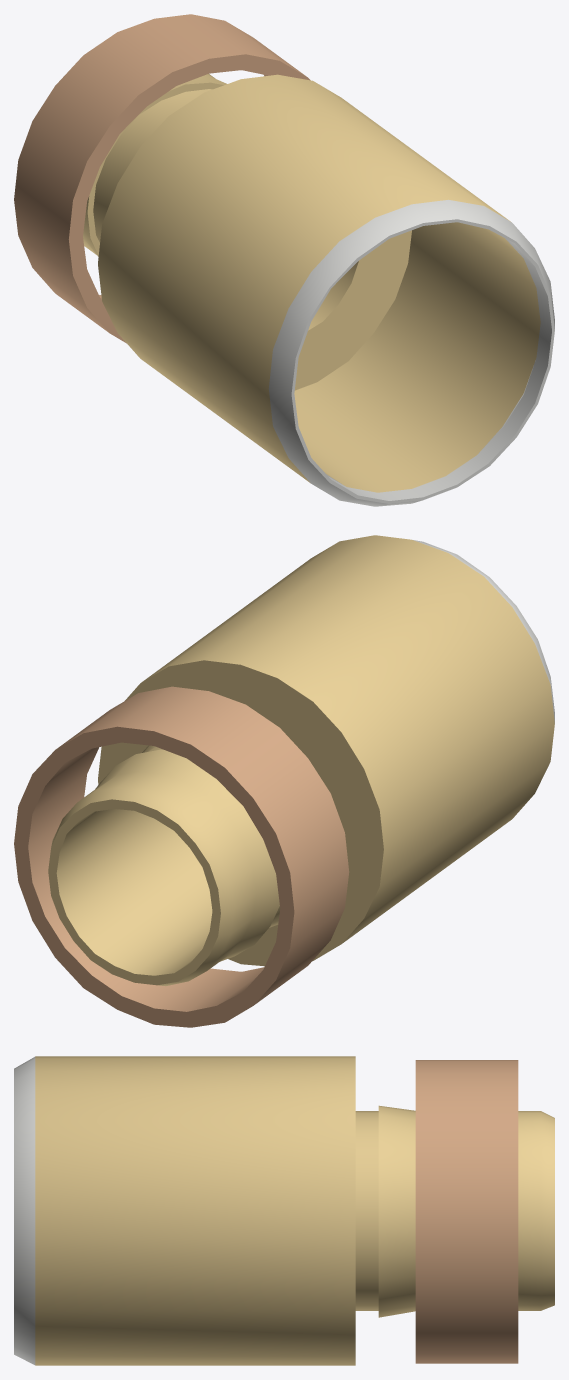
Rendered from slab_pipes_supply__plumbing-attic_repipe+pex_and_water_heater-garage_gas_tank+garage_hybrid.glb.
The picture shows the model from 3 angles, top to bottom: view 1: azimuth 30°, elevation 25°; view 2: azimuth 150°, elevation 25°; view 3: azimuth 270°, elevation 25°; orthographic projection. The views are drawn at different scales.
Parts seen in each view (by area): view 1: fit_header_inlet_pipe_supply_hot_wh_hybrid__pex; view 2: fit_header_inlet_pipe_supply_hot_wh_hybrid__pex; view 3: fit_header_inlet_pipe_supply_hot_wh_hybrid__pex.
Part boxes in pixels (x1,y1,x2,y2): fit_header_inlet_pipe_supply_hot_wh_hybrid__pex: (14,14,554,506); fit_header_inlet_pipe_supply_hot_wh_hybrid__pex: (14,535,554,1027); fit_header_inlet_pipe_supply_hot_wh_hybrid__pex: (14,1056,554,1365).
Bounding box in the file's own units: 0.0247 × 0.0247 × 0.0431.
